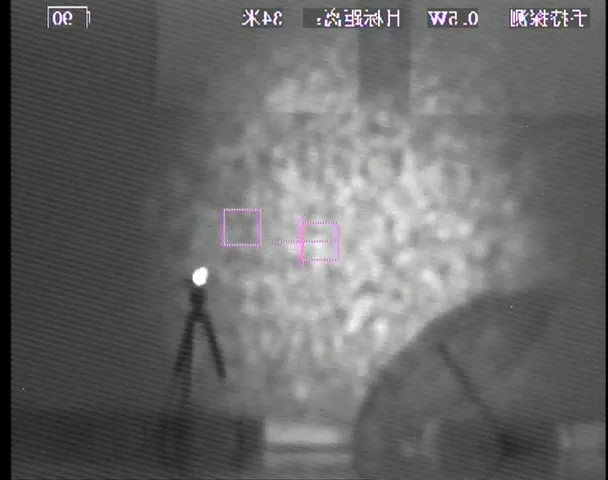my: (190, 265, 209, 286)
